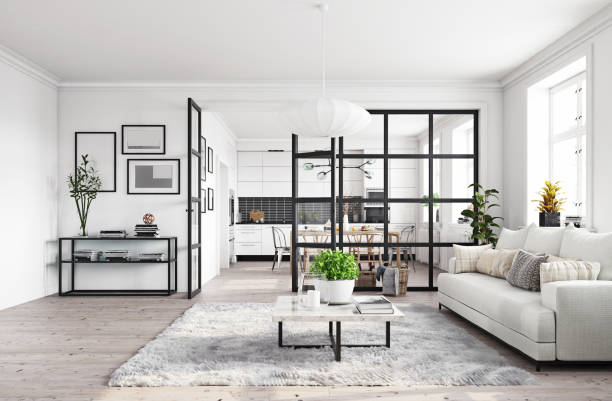dining table set: (269, 223, 419, 271)
flower vase: (67, 150, 102, 237)
large plant: (458, 180, 505, 245)
small plant: (308, 249, 360, 303), (536, 178, 565, 226)
sofa: (435, 222, 612, 375)
table: (273, 293, 404, 363)
wall art: (72, 129, 117, 193), (124, 155, 182, 196), (119, 122, 167, 155)
